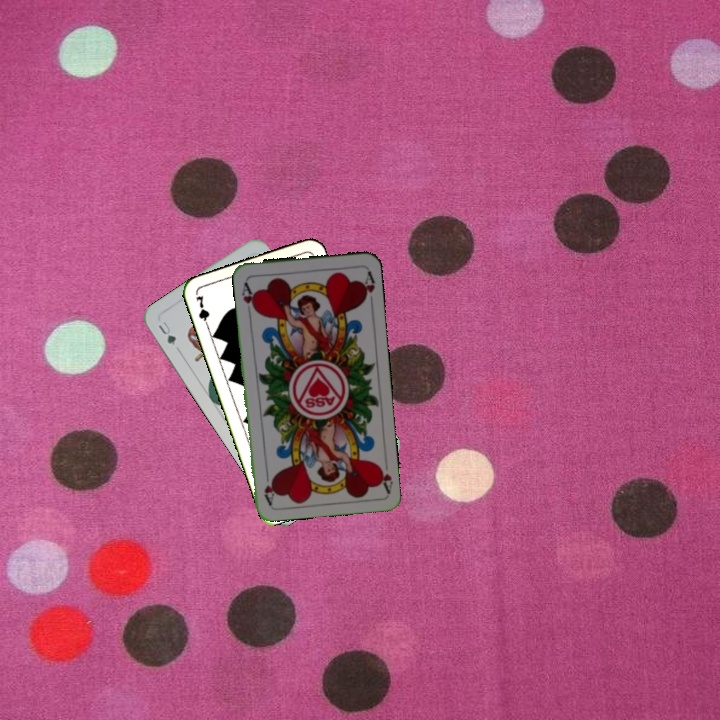G7: (192, 291, 212, 331)
GU: (154, 317, 179, 348)
HA: (373, 454, 395, 495), (237, 278, 259, 314)
